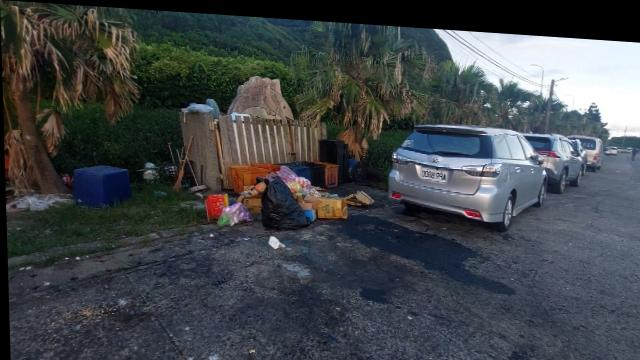pollute: (201, 154, 374, 224), (9, 162, 131, 210), (267, 232, 284, 243)
